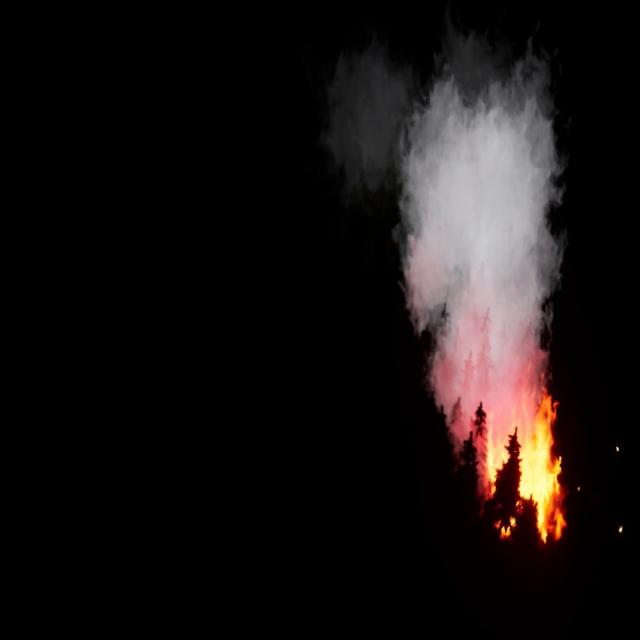fire: (486, 402, 570, 544)
smoke: (331, 30, 562, 472)
